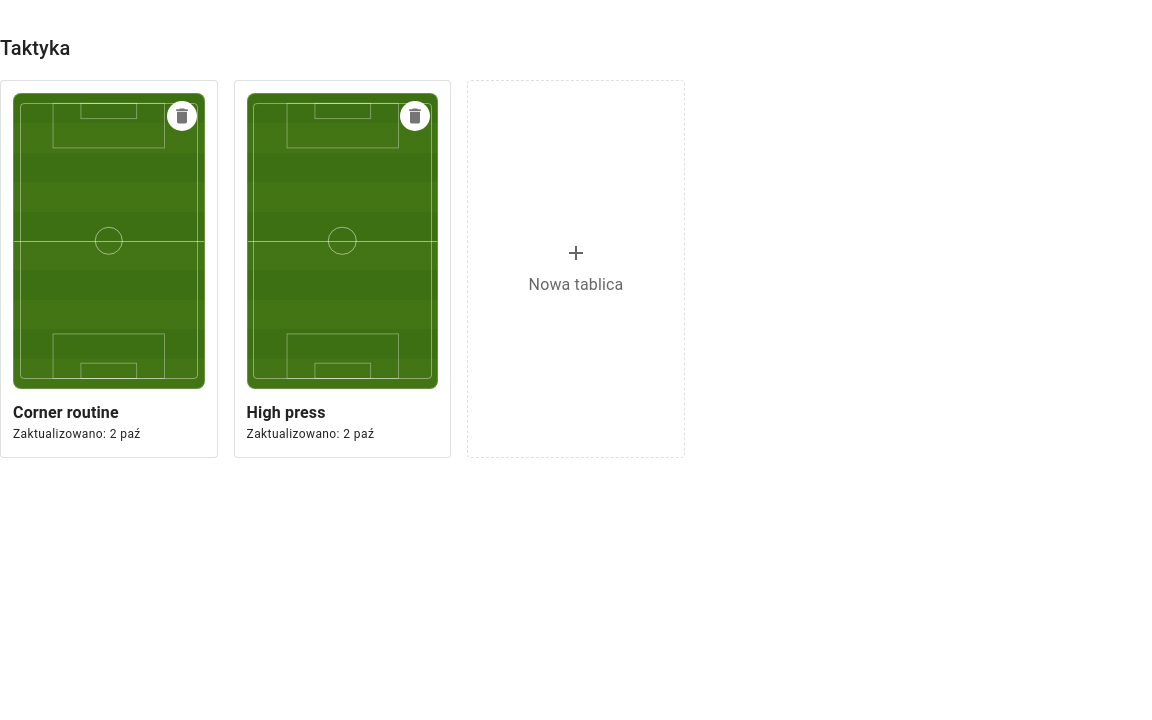
Test case: deleting a board › reports a failed deletion and keeps the board
Expected: the text "Corner routine" is shown, [13,403,119,422]
Step 1. Click the 1st button named "Usuń tablicę" → (182,116), box [167,101,197,131]
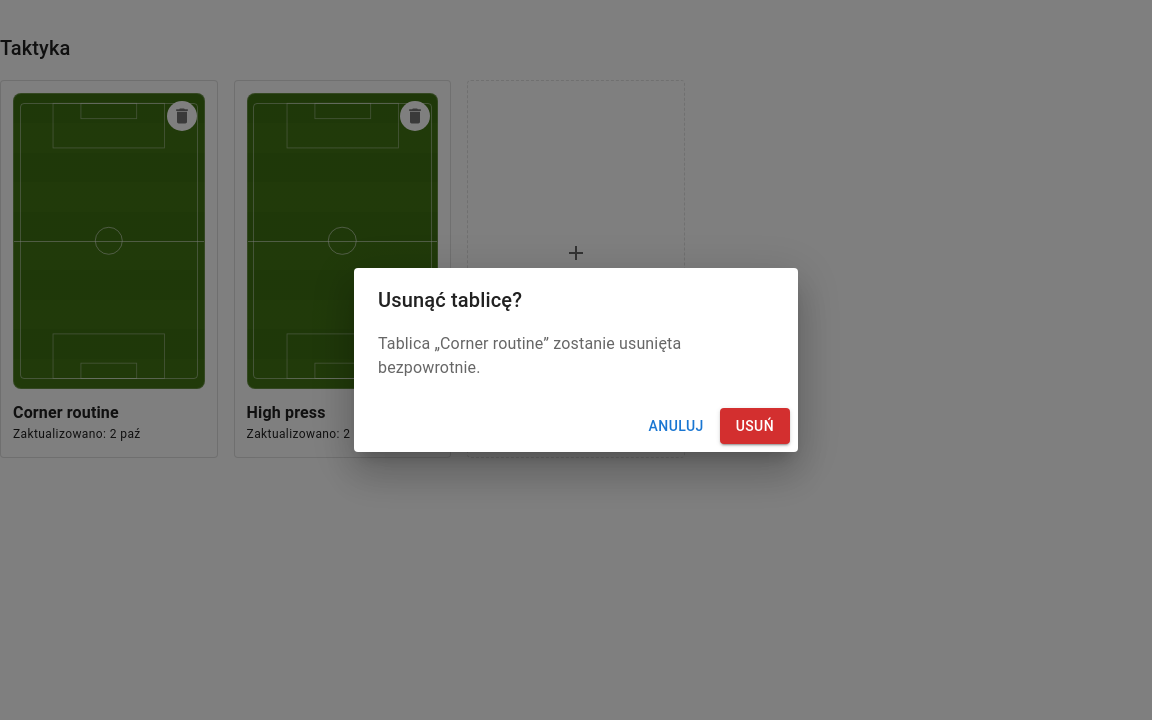
Step 2. Click the button "Usuń" → (755,426), box [720,408,790,444]
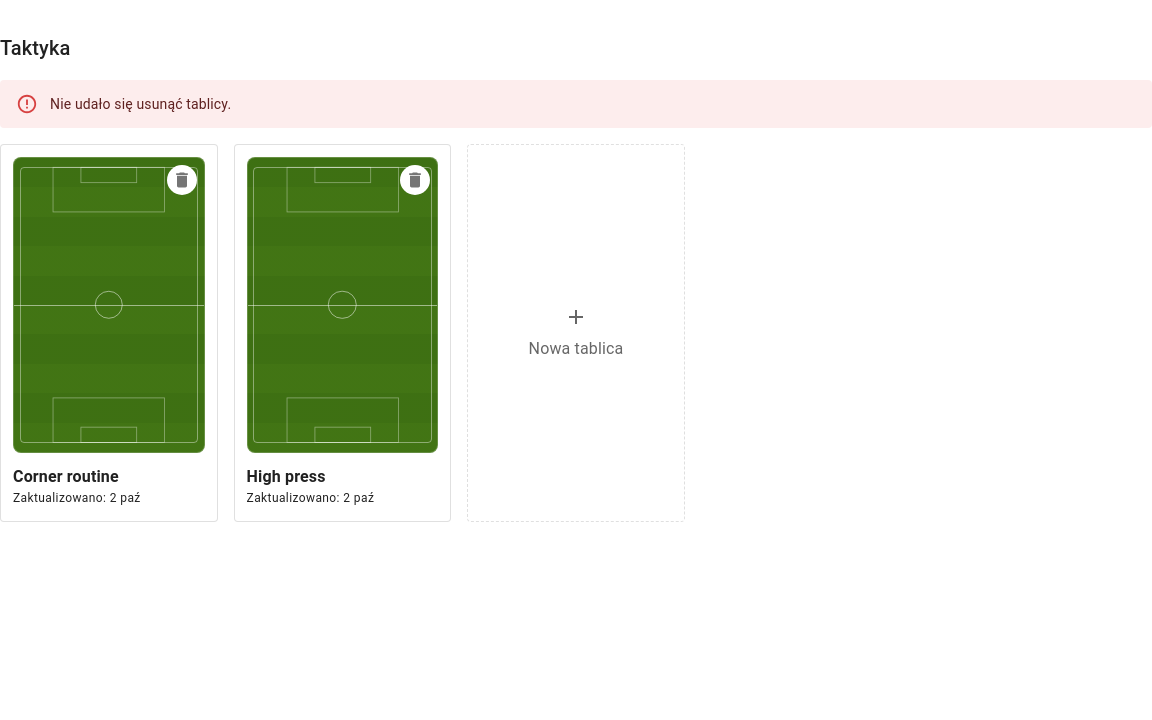
Expected: the text "Corner routine" is shown, [13,467,119,486]
Result: the text "Nie udało się usunąć tablicy." is shown at [50,96,231,112]
